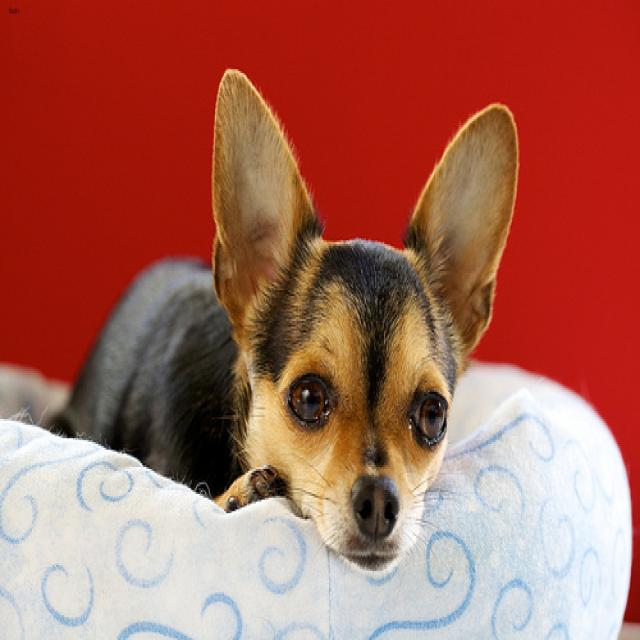dog-chihuahua: (35, 60, 524, 586)
